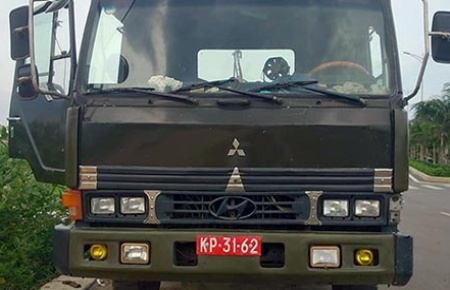plate: (196, 235, 263, 257)
